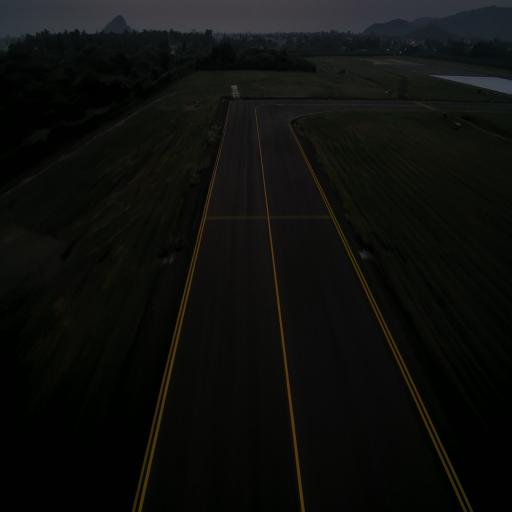on: (168, 251, 175, 262), (362, 247, 366, 258)
